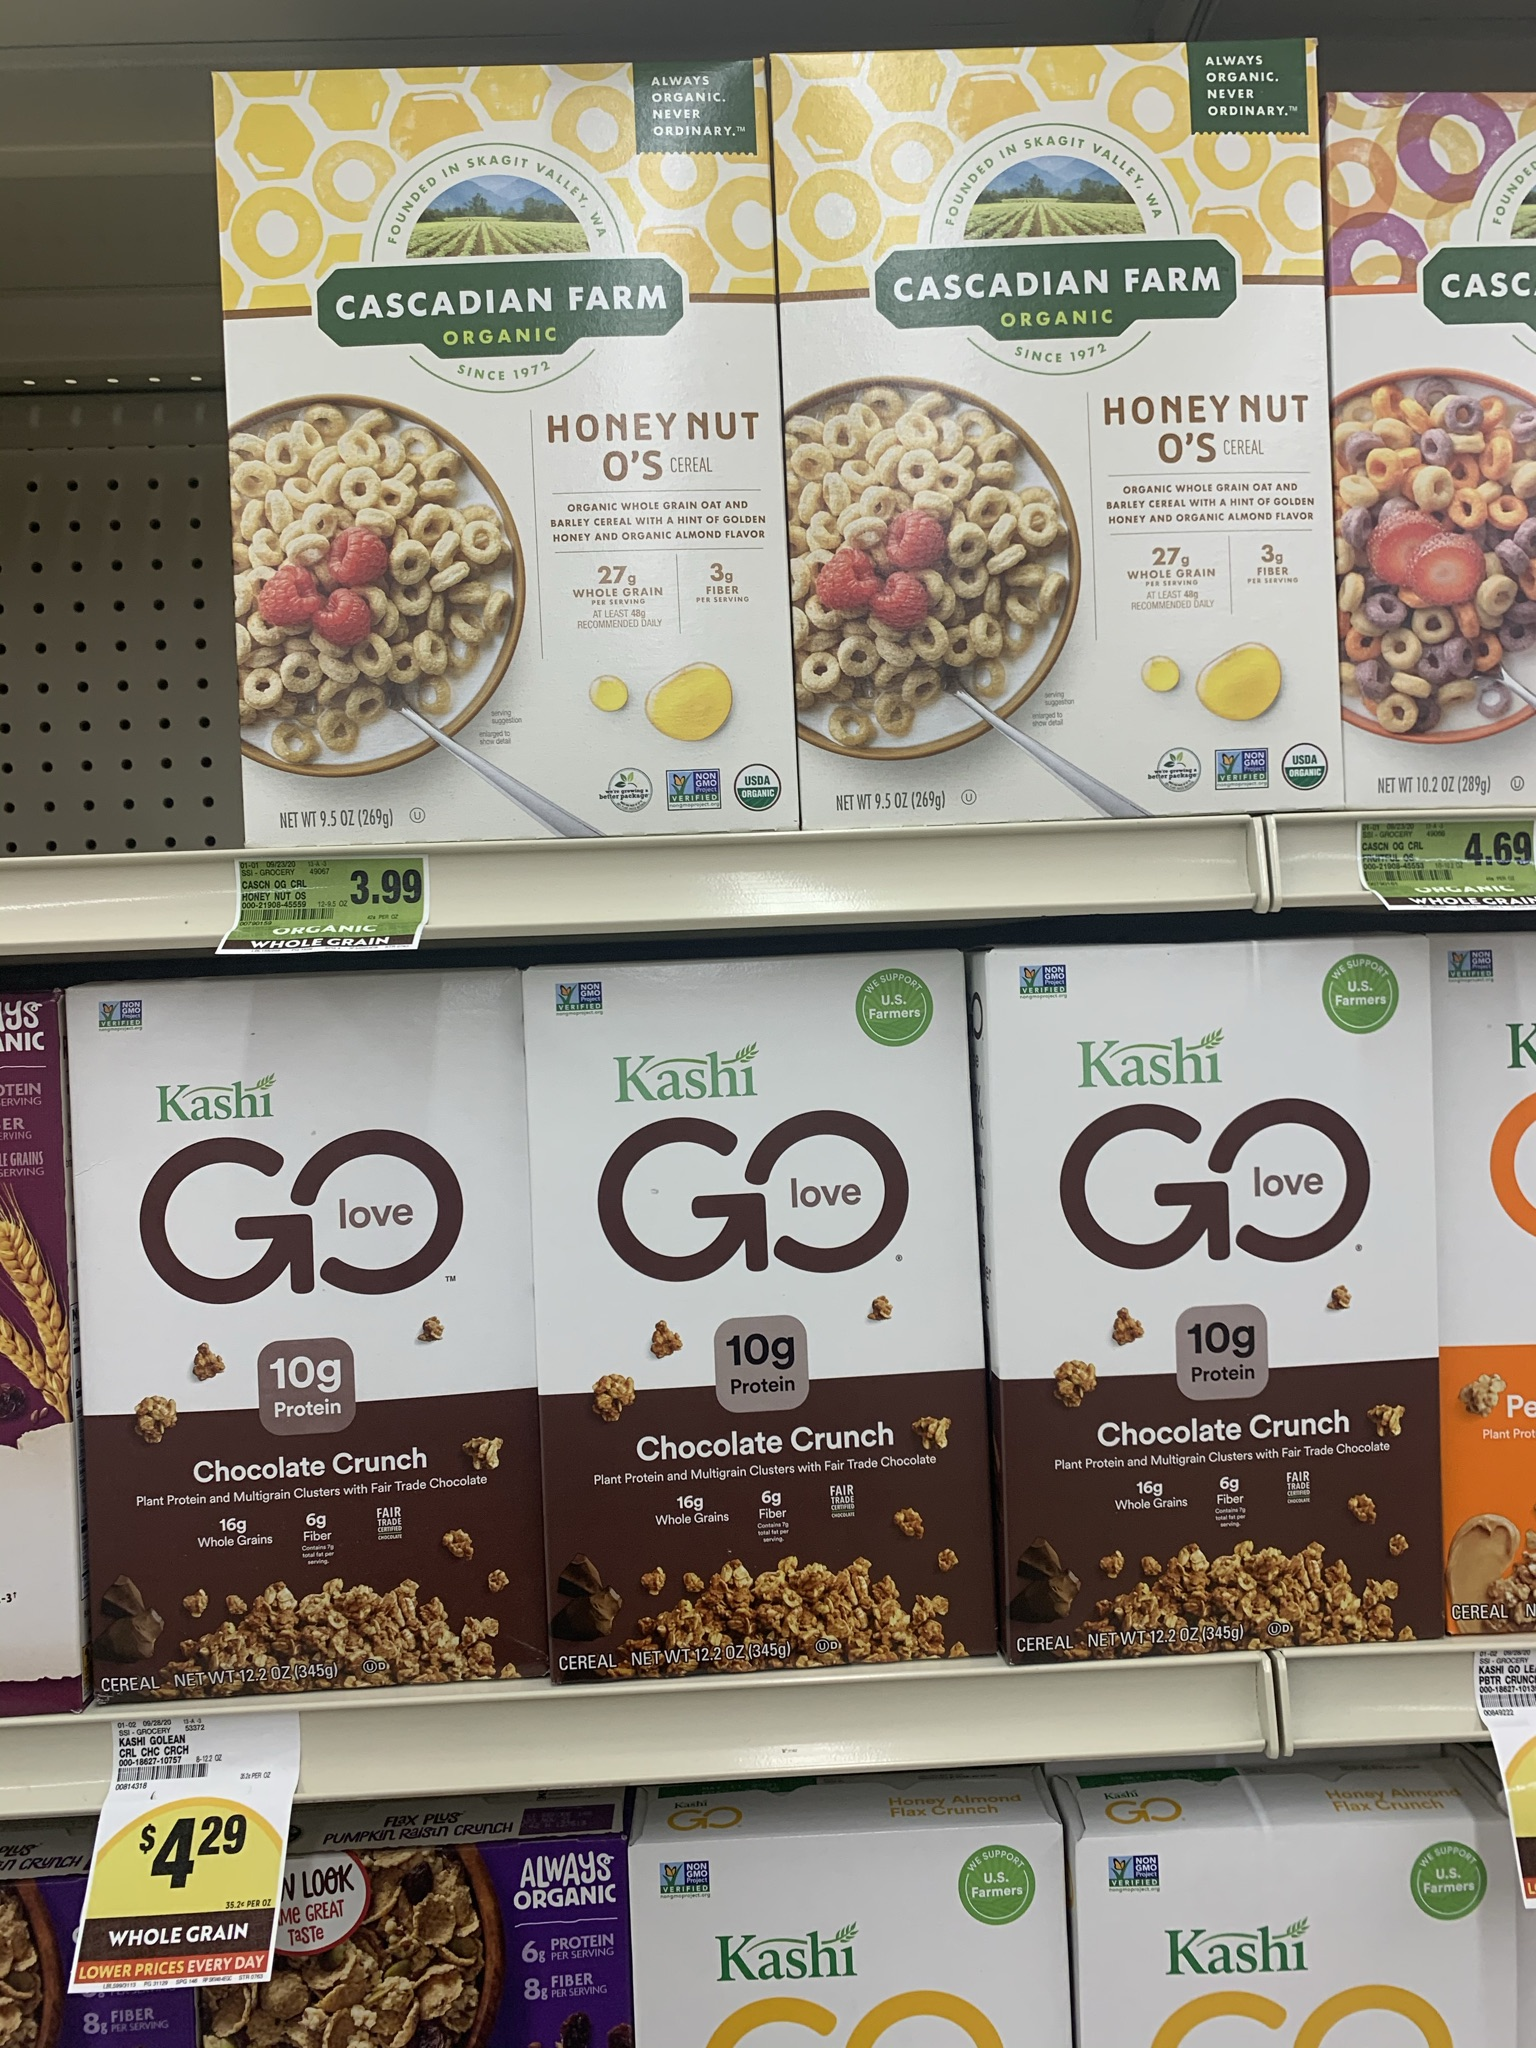box: (242, 76, 774, 834), (802, 69, 1331, 801), (86, 1001, 529, 1675), (1000, 968, 1436, 1638), (563, 984, 978, 1651)
